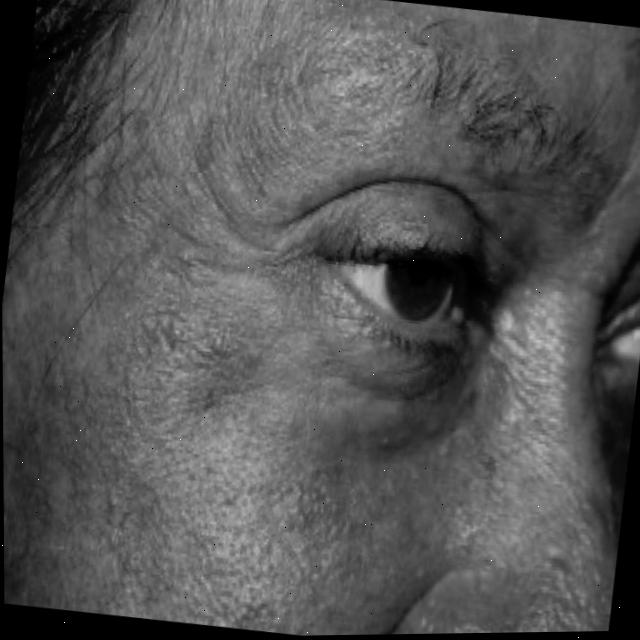Rosacea: (107, 18, 378, 413), (112, 401, 343, 622), (460, 372, 631, 633)
